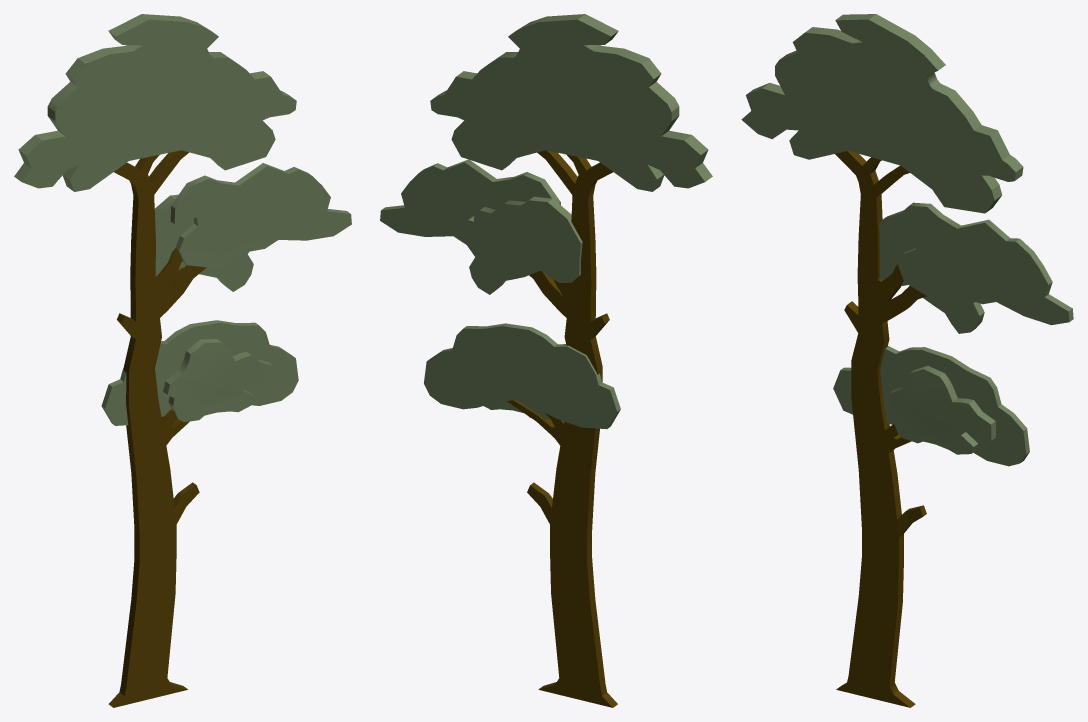
Rendered from MenuTree3.fbx.
3 renders of one model, left to right at view 1: azimuth 30°, elevation 25°; view 2: azimuth 150°, elevation 25°; view 3: azimuth 330°, elevation 25°, orthographic.
Visible parts, largest first — view 1: MenuTree3; view 2: MenuTree3; view 3: MenuTree3.
Part boxes in pixels (x1,y1,x2,y2): MenuTree3: (14,14,351,707); MenuTree3: (380,14,712,707); MenuTree3: (741,14,1073,707).
Size of the model in its own units: 1.3 by 2.56 by 0.0644.
